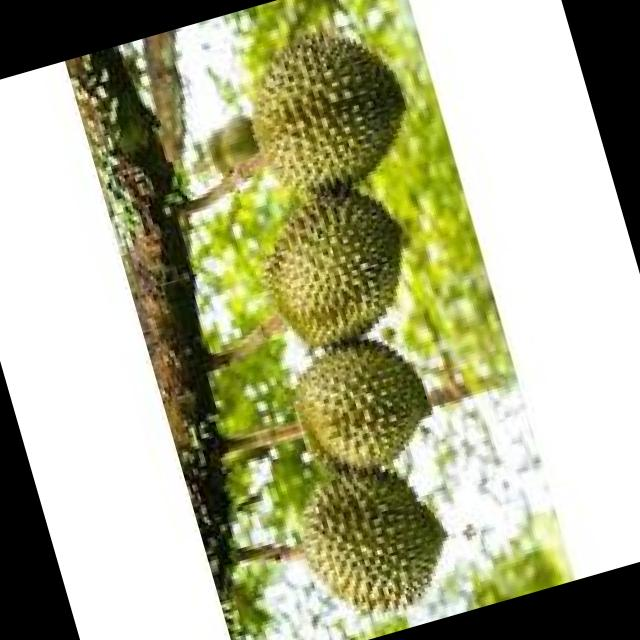fruit: (206, 0, 430, 220), (225, 159, 438, 372), (263, 430, 473, 640), (262, 310, 453, 501)
